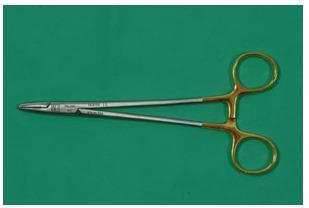Needle Holder: (14, 49, 281, 179)
